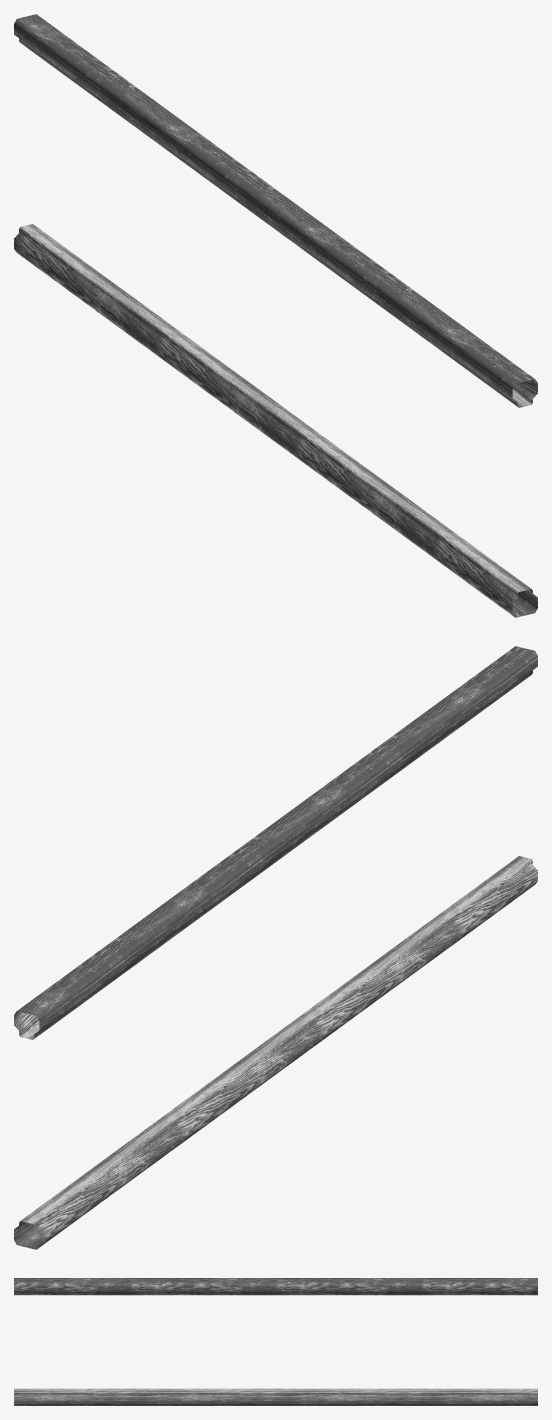
The model's file is SM_Fence_A3_Splines_15.fbx.
3 views of the same model, one above another, from view 1: azimuth 30°, elevation 25°; view 2: azimuth 150°, elevation 25°; view 3: azimuth 270°, elevation 25° (orthographic). The views are drawn at different scales.
Visible parts, largest first — view 1: SM_Fence_A3_Splines_15; view 2: SM_Fence_A3_Splines_15; view 3: SM_Fence_A3_Splines_15.
Boxes of the visible parts, box(x1,y1,x2,y2) form: SM_Fence_A3_Splines_15: box(14, 14, 537, 617); SM_Fence_A3_Splines_15: box(14, 646, 537, 1249); SM_Fence_A3_Splines_15: box(14, 1278, 537, 1405).
Size of the model in its own units: 6.56 by 224 by 58.09.
1 material, 1 textured.
